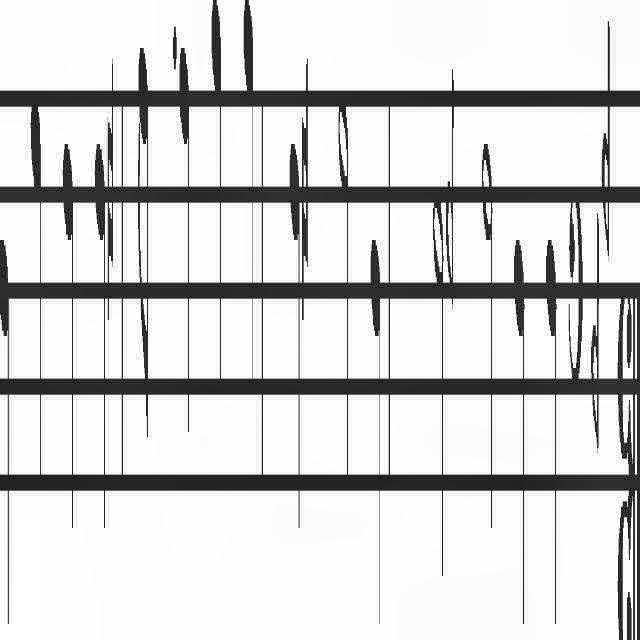Bemol: (588, 180, 604, 472), (602, 0, 616, 252), (446, 45, 458, 325)
Eighth-note: (136, 32, 152, 476)
Half-note: (482, 105, 498, 560), (336, 67, 350, 526), (433, 168, 447, 590)
Quarter-note: (26, 66, 44, 558), (60, 129, 78, 579), (240, 1, 256, 460), (370, 202, 386, 640), (512, 214, 528, 618), (208, 0, 223, 420), (91, 112, 105, 548), (544, 230, 558, 606), (0, 208, 12, 640), (179, 29, 191, 448), (288, 120, 300, 532)
